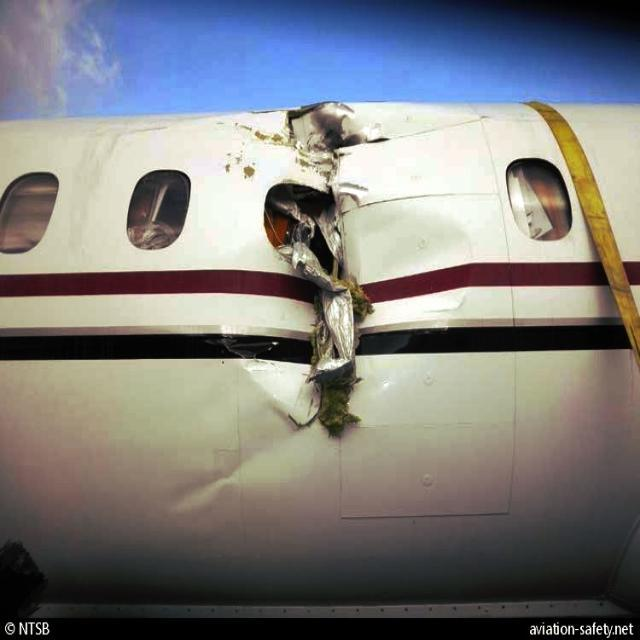crack: (255, 80, 396, 457)
dent: (359, 208, 467, 390), (168, 419, 320, 518)
